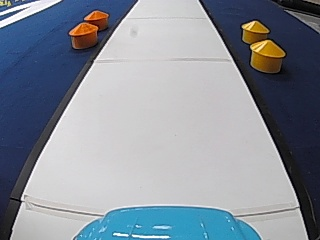granary: (247, 37, 286, 72), (66, 20, 98, 49), (238, 18, 269, 44), (83, 8, 108, 30)
